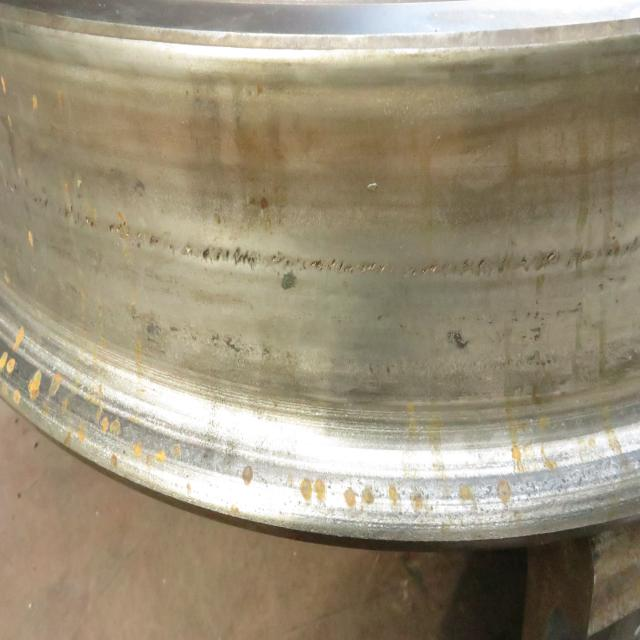Peeling: (271, 249, 390, 275), (408, 253, 488, 273), (201, 247, 263, 270), (114, 221, 163, 245), (522, 249, 558, 274), (66, 205, 98, 227)
